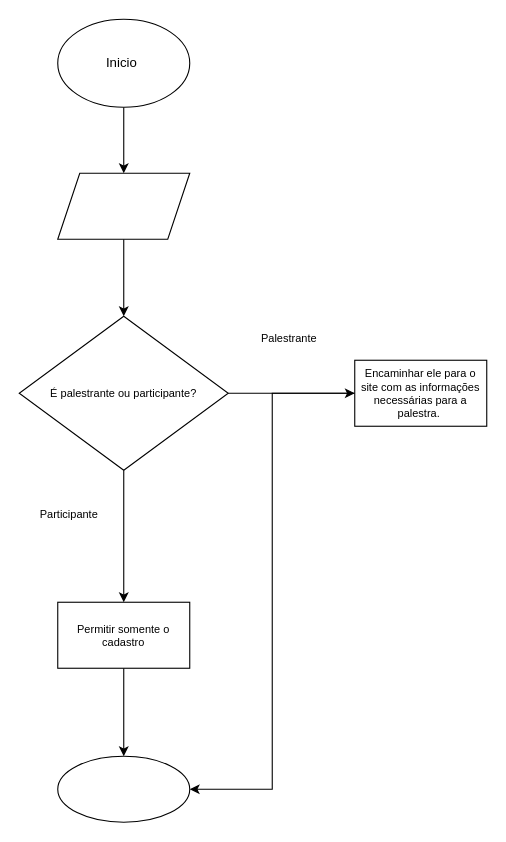
The diagram is 506 pixels wide and 842 high, and some of its shapes have lost their labels. Each missing label, with the box of its shape:
Fim: (57, 755, 190, 822)
identificação da pessoa: (57, 172, 190, 239)
